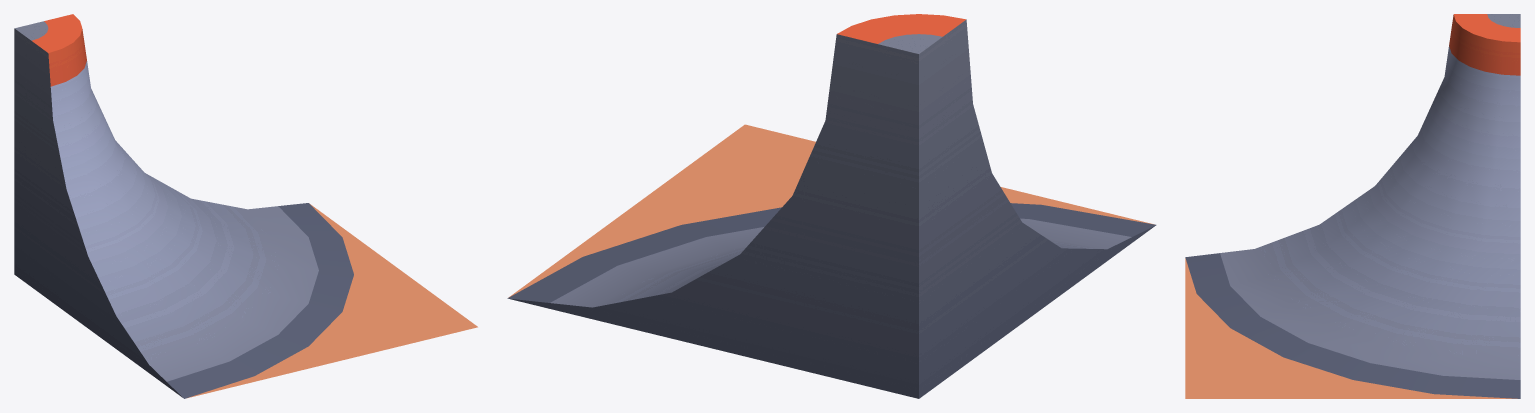
Rendered from bowl-corner-outer.glb.
3 renders of one model, left to right at view 1: azimuth 30°, elevation 25°; view 2: azimuth 150°, elevation 25°; view 3: azimuth 270°, elevation 25°, orthographic. The views are drawn at different scales.
Parts seen in each view (by area): view 1: bowl-corner-outer; view 2: bowl-corner-outer; view 3: bowl-corner-outer.
Part boxes in pixels (left/top/right/bottom): bowl-corner-outer: left=14, top=14, right=477, bottom=398; bowl-corner-outer: left=507, top=14, right=1156, bottom=398; bowl-corner-outer: left=1185, top=14, right=1520, bottom=398.
Size of the model in its own units: 3 by 2.4 by 3.
1 material, 1 textured.
